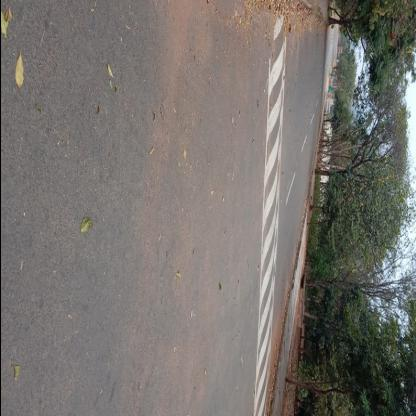speed-bumps: (248, 0, 294, 415)
